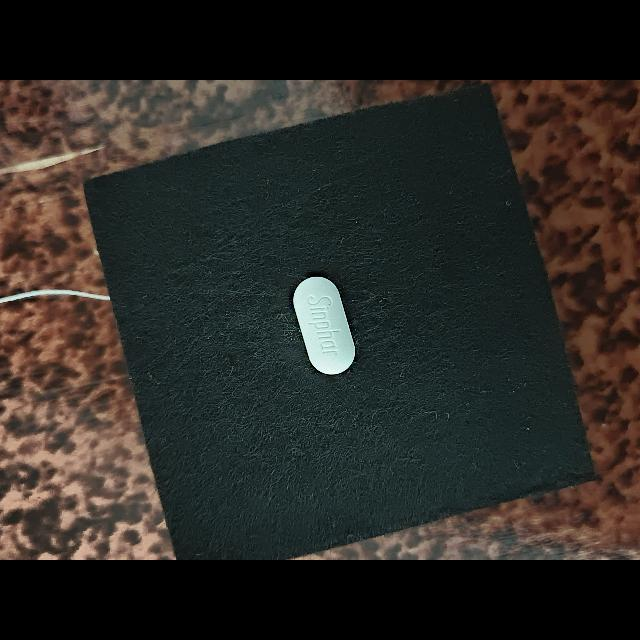Intact Pill: (293, 277, 356, 375)
